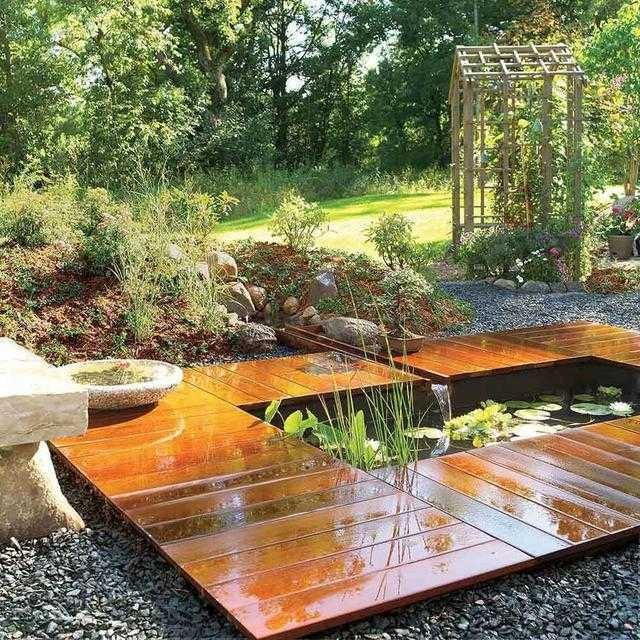Ponds: (69, 321, 640, 640)
